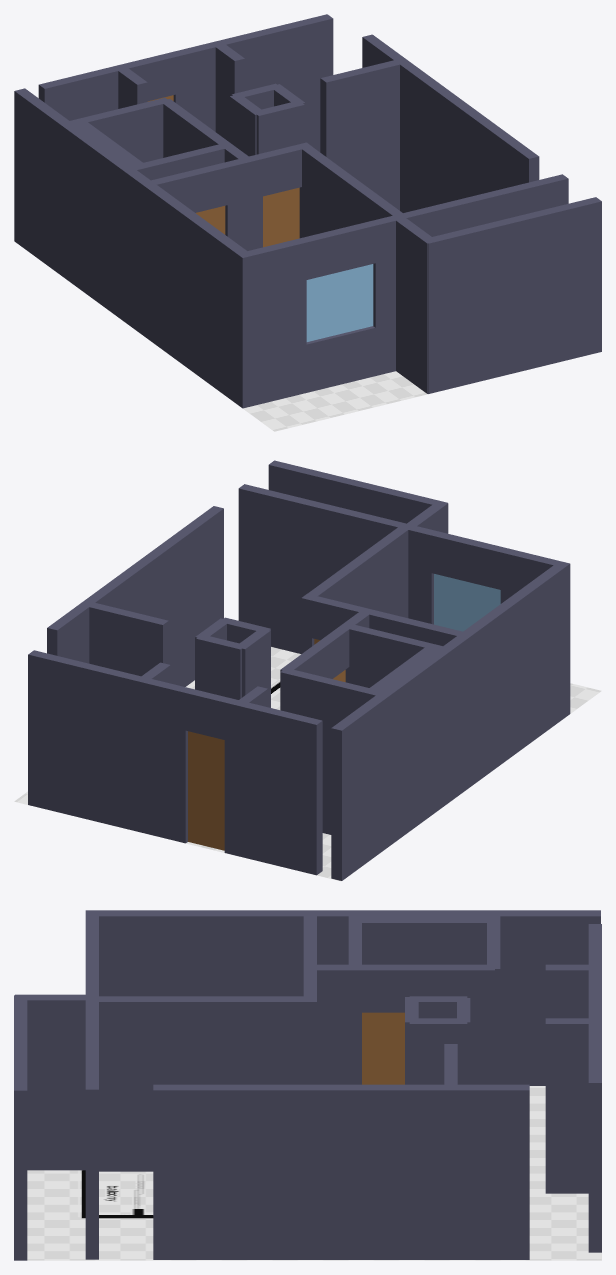
Rendered from floorplan1.obj.
The picture shows the model from 3 angles, top to bottom: view 1: azimuth 30°, elevation 25°; view 2: azimuth 150°, elevation 25°; view 3: azimuth 270°, elevation 25°; orthographic projection. The views are drawn at different scales.
Visible parts, largest first — view 1: wall, FloorPlan, Window, Door; view 2: wall, Door, Window, FloorPlan; view 3: wall, FloorPlan, Door.
Boxes of the visible parts, <box> form: wall: <box>14,14,601,408</box>; FloorPlan: <box>14,241,427,431</box>; Window: <box>306,264,373,341</box>; Door: <box>147,95,299,247</box>; wall: <box>28,460,570,880</box>; Door: <box>188,639,345,850</box>; Window: <box>434,574,500,631</box>; FloorPlan: <box>14,647,601,881</box>; wall: <box>14,910,601,1260</box>; FloorPlan: <box>27,1086,601,1260</box>; Door: <box>362,1012,404,1084</box>.
Size of the model in its own units: 6.38 by 2.8 by 8.79.
4 materials, 1 textured.
